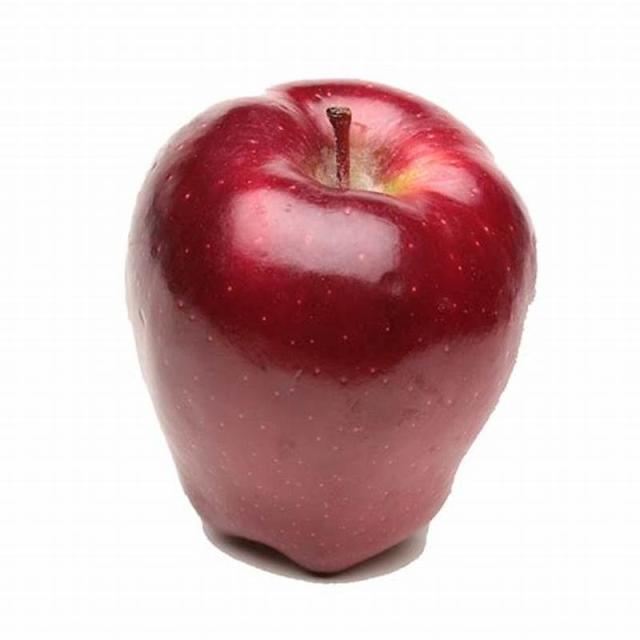Apple: (135, 81, 540, 576)
